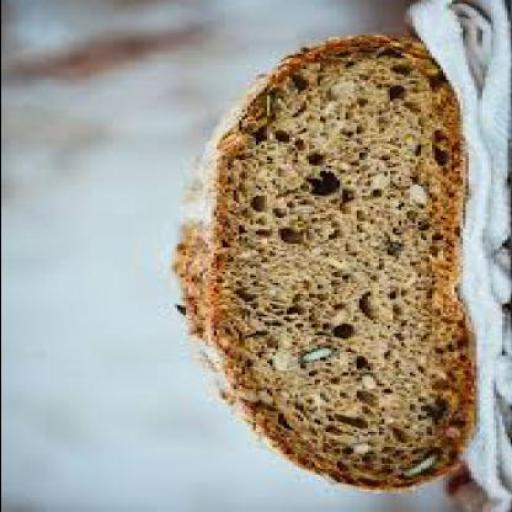biodegradable: (168, 37, 470, 497)
